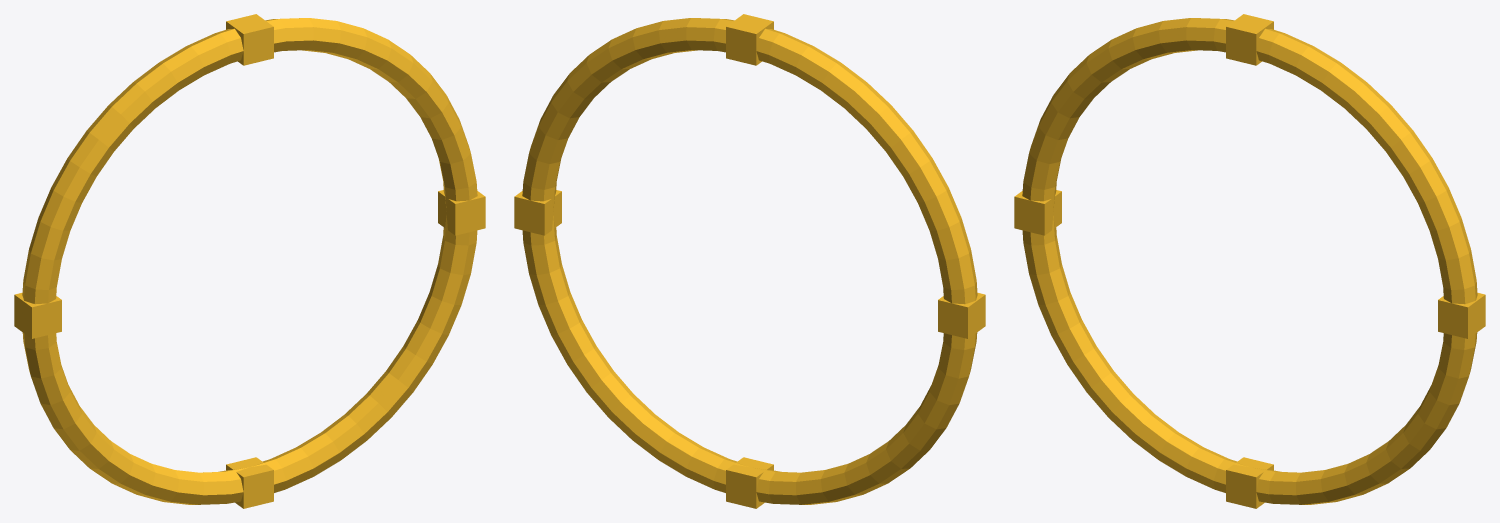
Rendered from beam_ring.glb.
3 renders of one model, left to right at view 1: azimuth 30°, elevation 25°; view 2: azimuth 150°, elevation 25°; view 3: azimuth 330°, elevation 25°, orthographic.
Parts seen in each view (by area): view 1: beam_ring; view 2: beam_ring; view 3: beam_ring.
Part boxes in pixels (box(x1,y1,x2,y2)): beam_ring: box(14, 14, 485, 508); beam_ring: box(514, 14, 985, 508); beam_ring: box(1014, 14, 1485, 508).
Bounding box in the file's own units: 0.9 × 0.9 × 0.06.
